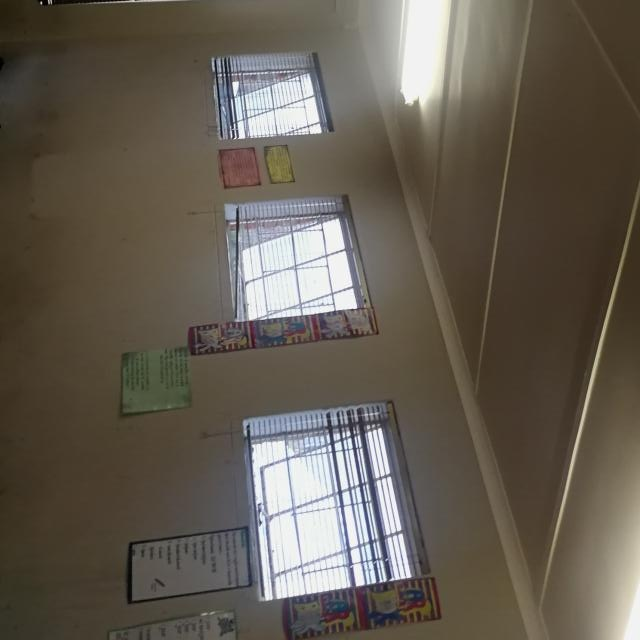fluorescent tube: (532, 482, 640, 640), (356, 0, 456, 126)
